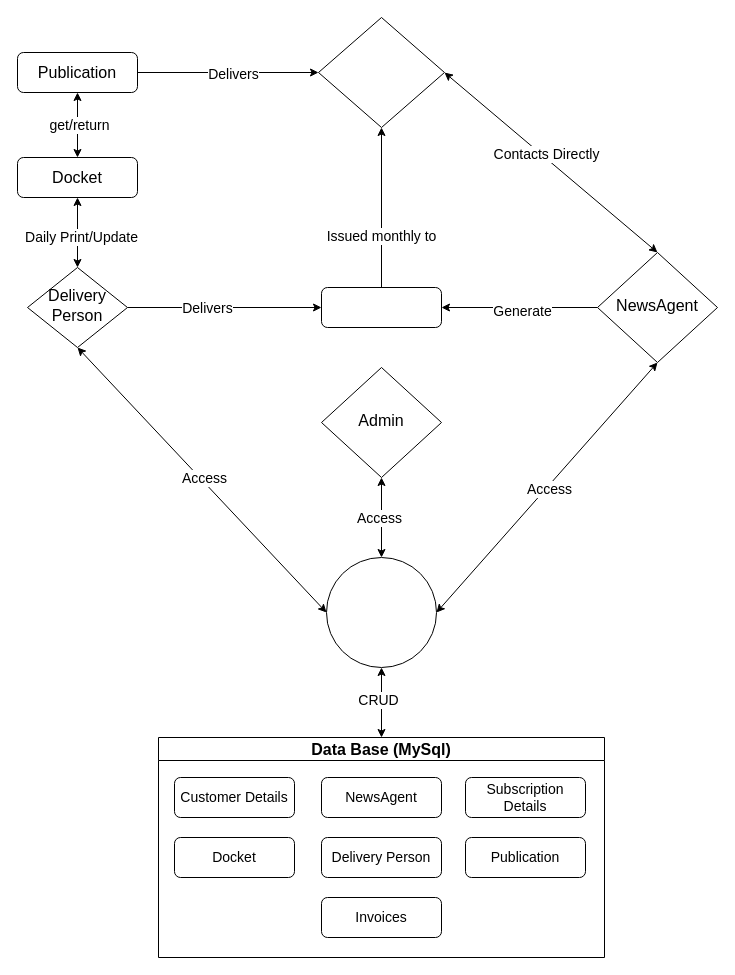
Image size: 735x975. Some labels were removed from this diagram. The shapes that lost their labels are listed below. From the top down, each one's centre as x and y in pixels, then its label:
(381,72): Customer
(381,307): Invoice
(381,612): SOFTWARE ( JAVA )
